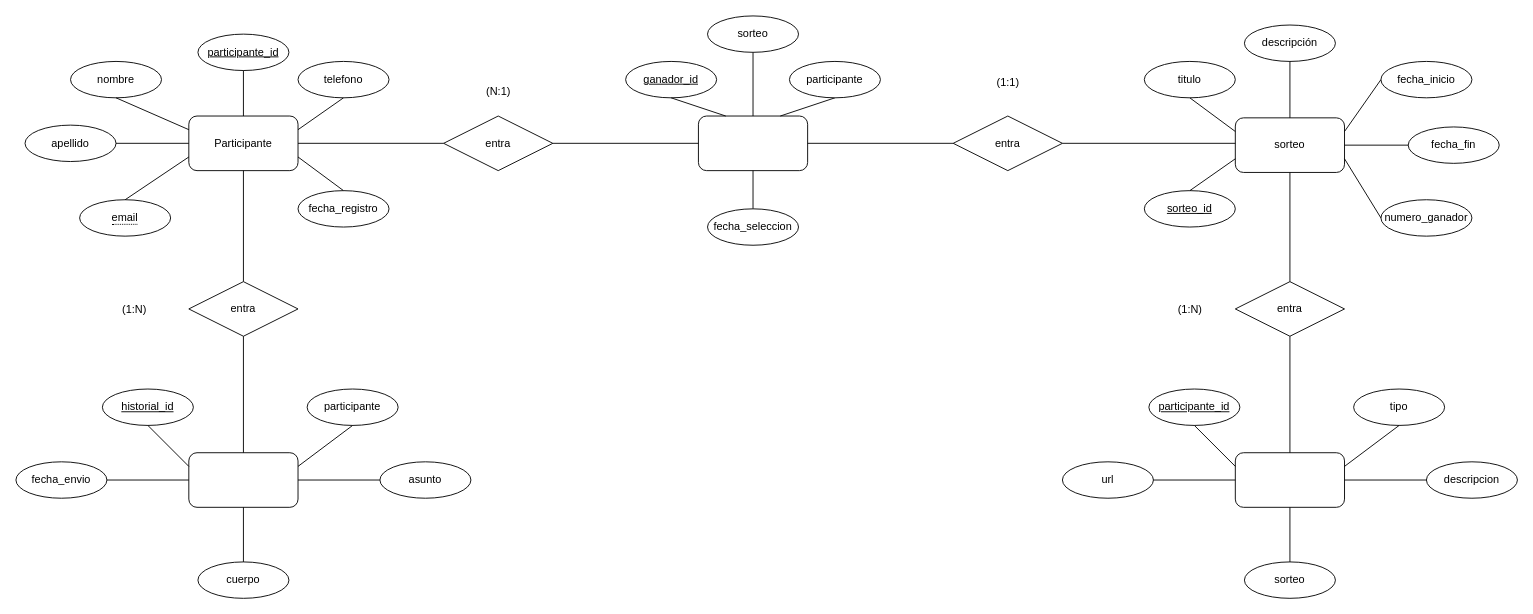
The diagram is 1533 pixels wide and 614 high, and some of its shapes have lost their labels. The centre of each missing label's shape, as x and y in pixels:
contenido_evento: (x=1289, y=479)
Ganador: (x=753, y=143)
historial_envio: (x=243, y=479)
